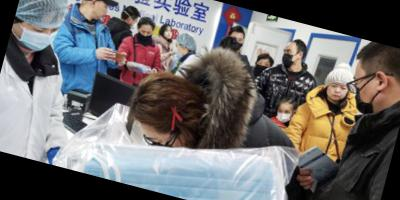with_mask: (15, 15, 61, 57), (344, 71, 385, 118), (280, 46, 301, 68), (274, 105, 295, 126), (136, 27, 154, 45), (254, 58, 272, 76), (228, 35, 245, 52), (172, 42, 187, 60), (128, 17, 139, 32)
without_mask: (324, 81, 350, 104), (92, 1, 110, 22), (163, 28, 175, 41)
